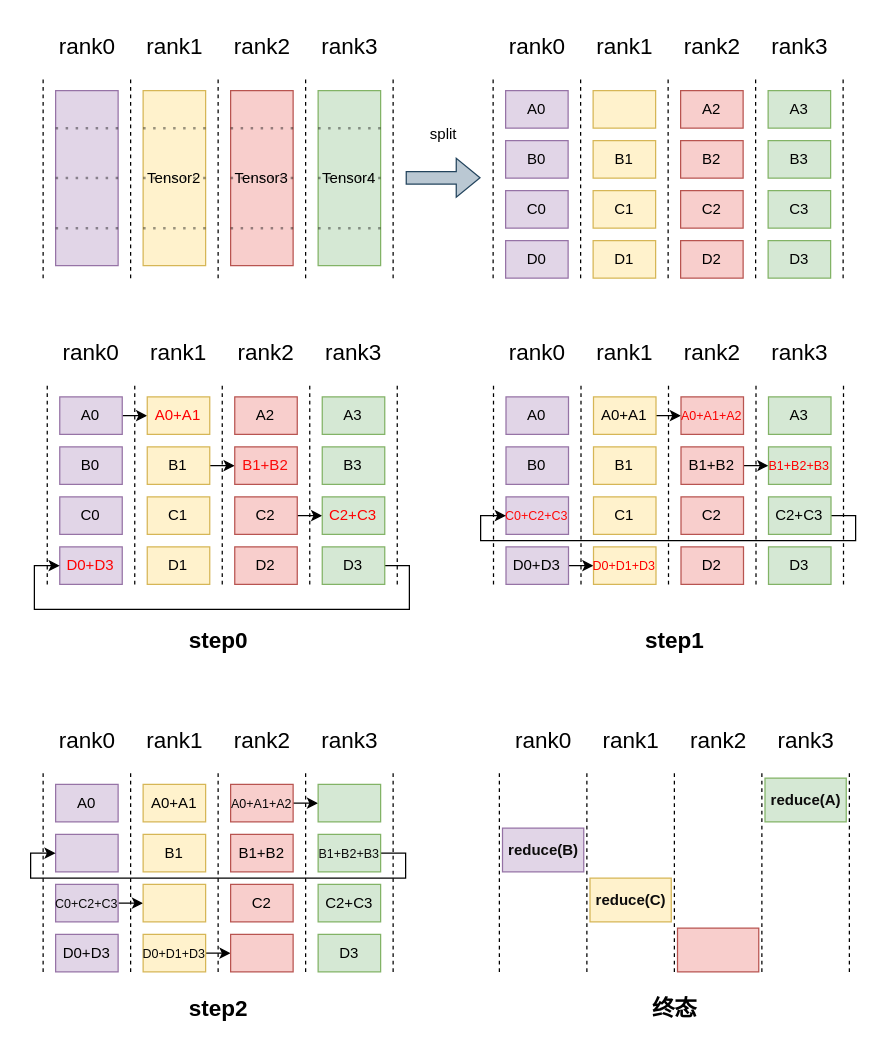
This 888x1055 diagram has some shape labels left out. Here are the shapes that lost their labels. From the top down, the centre of each, then its label:
At pixel 624 108: "A1".
At pixel 86 177: "Tensor1".
At pixel 349 802: "A0+A1 +A2+A3".
At pixel 86 852: "B0+B1 +B2 +B3".
At pixel 174 902: "C0+C1 +C2 +C3".
At pixel 261 952: "D0+D1 +D2+D3".
At pixel 717 949: "reduce(D)".
